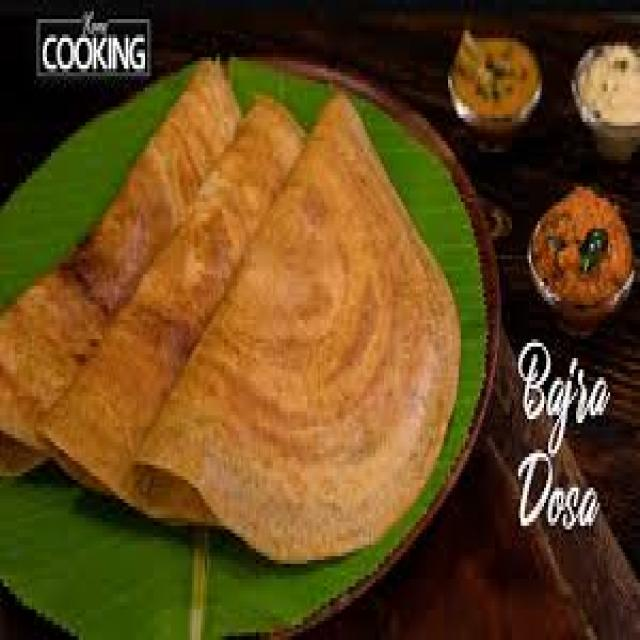DOSA: (141, 91, 459, 552), (47, 99, 303, 488), (2, 65, 237, 408)
